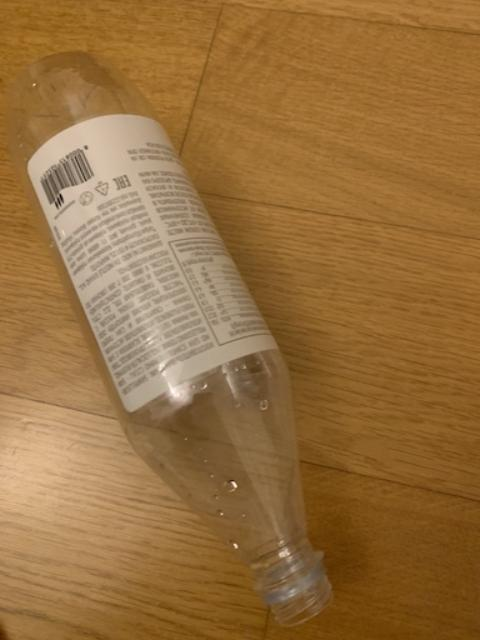plastic: (8, 51, 329, 622)
